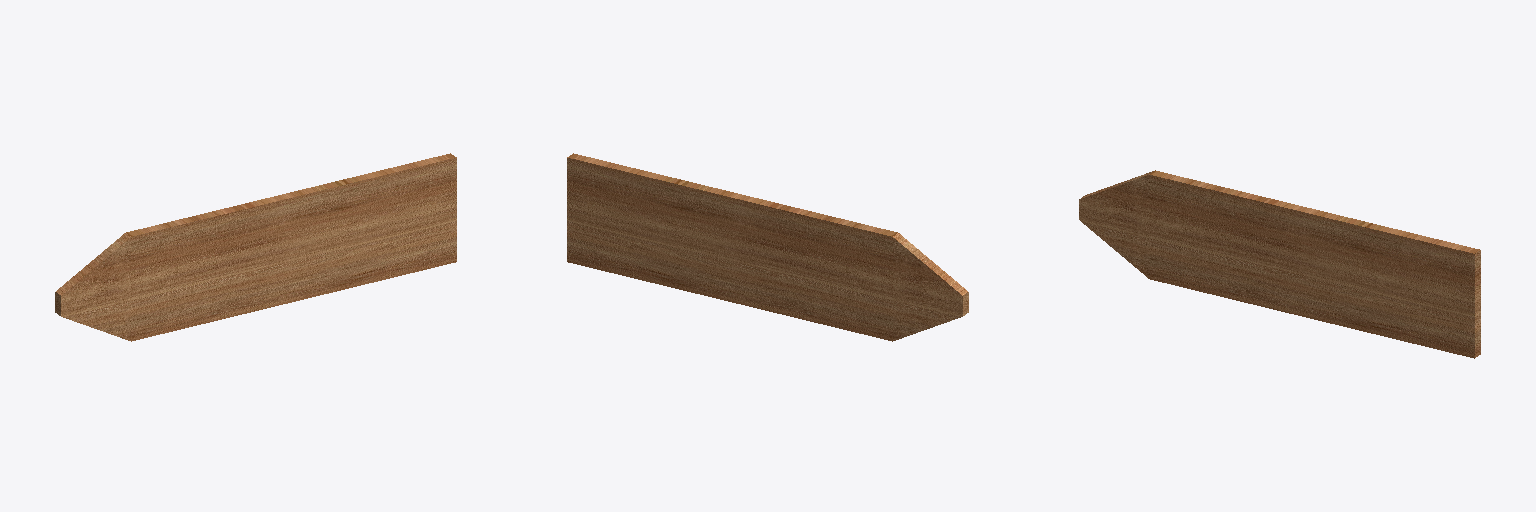
3 renders of one model, left to right at view 1: azimuth 30°, elevation 25°; view 2: azimuth 150°, elevation 25°; view 3: azimuth 330°, elevation 25°, orthographic.
Visible parts, largest first — view 1: mesh02, mesh01; view 2: mesh02, mesh01; view 3: mesh02, mesh01.
Part boxes in pixels (x1,y1,x2,y2): mesh02: (126, 153, 456, 341); mesh01: (55, 233, 130, 340); mesh02: (567, 153, 897, 341); mesh01: (893, 233, 968, 340); mesh02: (1150, 170, 1480, 358); mesh01: (1079, 171, 1153, 278).
Size of the model in its own units: 158 by 40 by 4.
Materials: 1 (1 with a texture image).